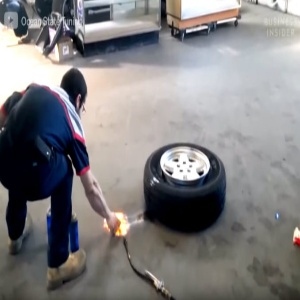train: (143, 139, 228, 241)
